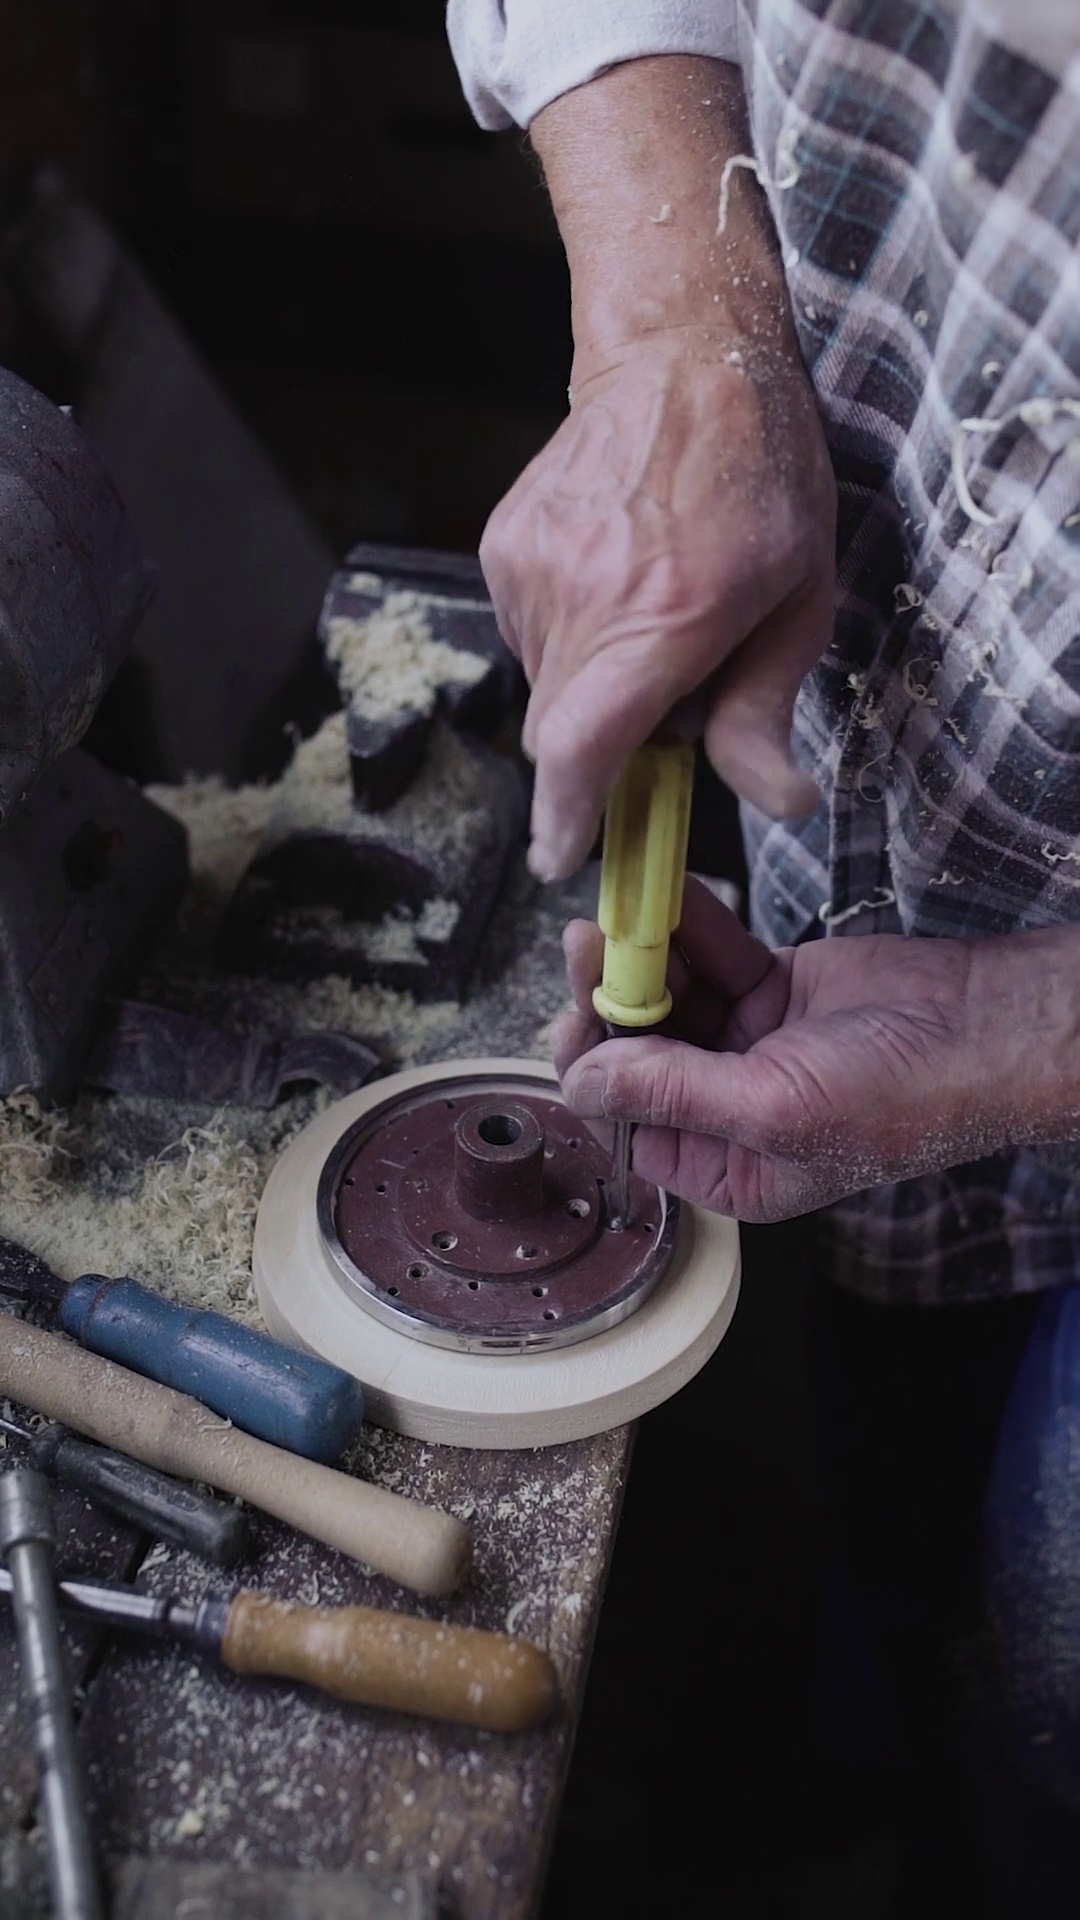screwdriver: (580, 720, 702, 1218)
